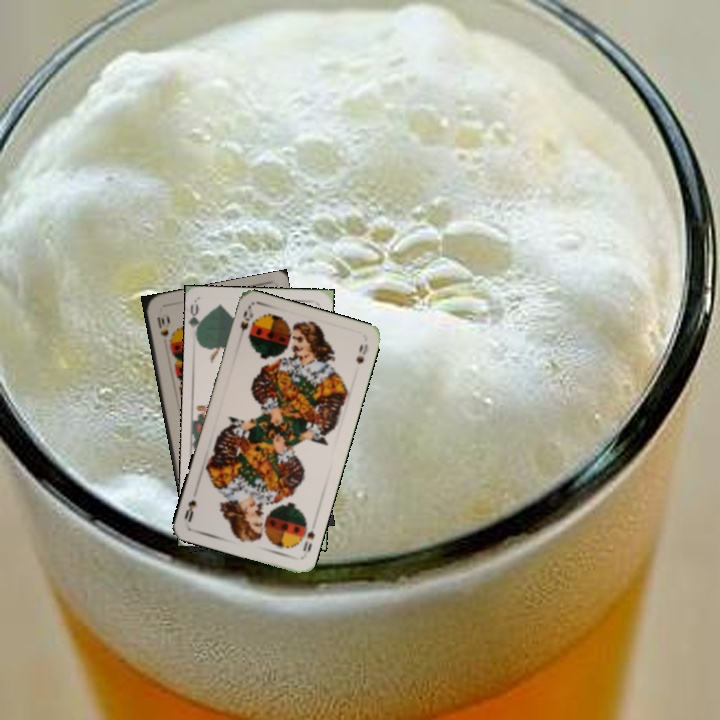GO: (187, 301, 207, 341)
S10: (153, 313, 171, 340)
SO: (236, 304, 256, 334), (299, 527, 317, 555)
